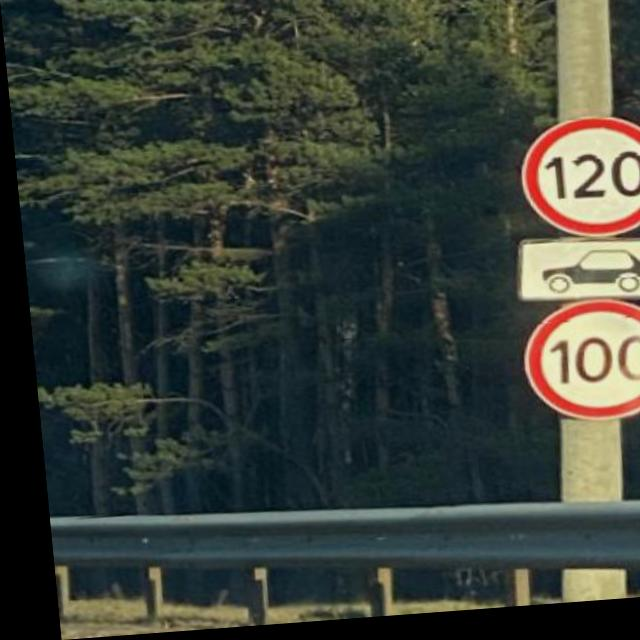limit100: (501, 298, 640, 441)
limit120: (504, 114, 640, 258)
